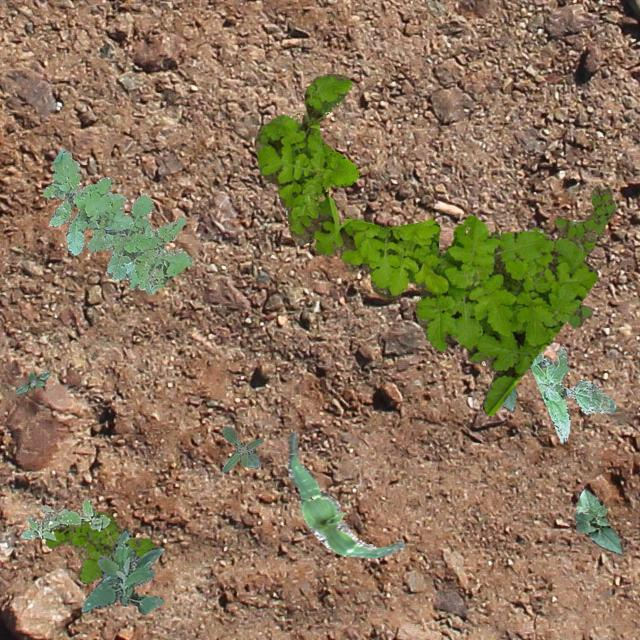crop: (286, 429, 404, 556), (572, 488, 622, 552), (499, 384, 516, 412)
weed: (254, 72, 596, 414), (42, 148, 192, 294), (552, 185, 614, 326), (528, 346, 614, 442), (44, 510, 154, 582), (80, 528, 162, 614), (20, 496, 109, 540), (220, 424, 262, 472), (15, 369, 50, 394)
